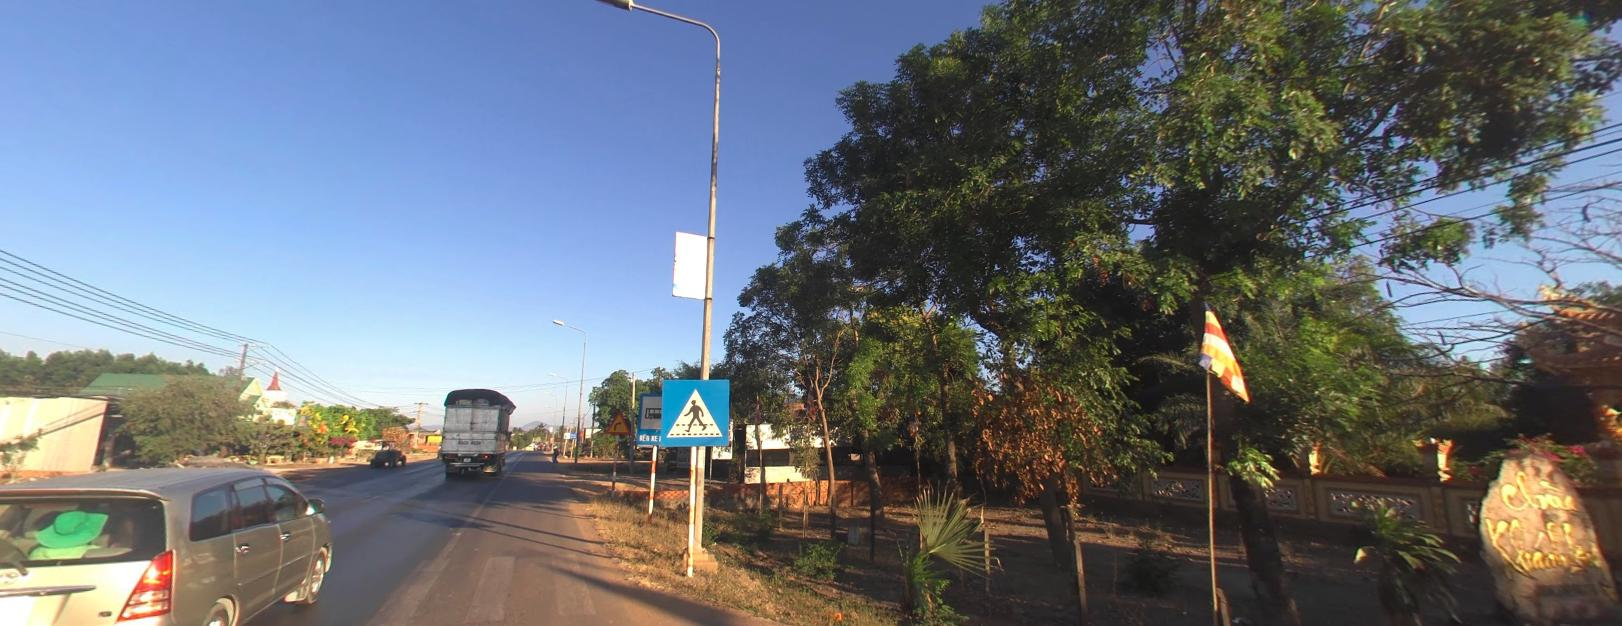Nguy hiem: (604, 411, 632, 433)
